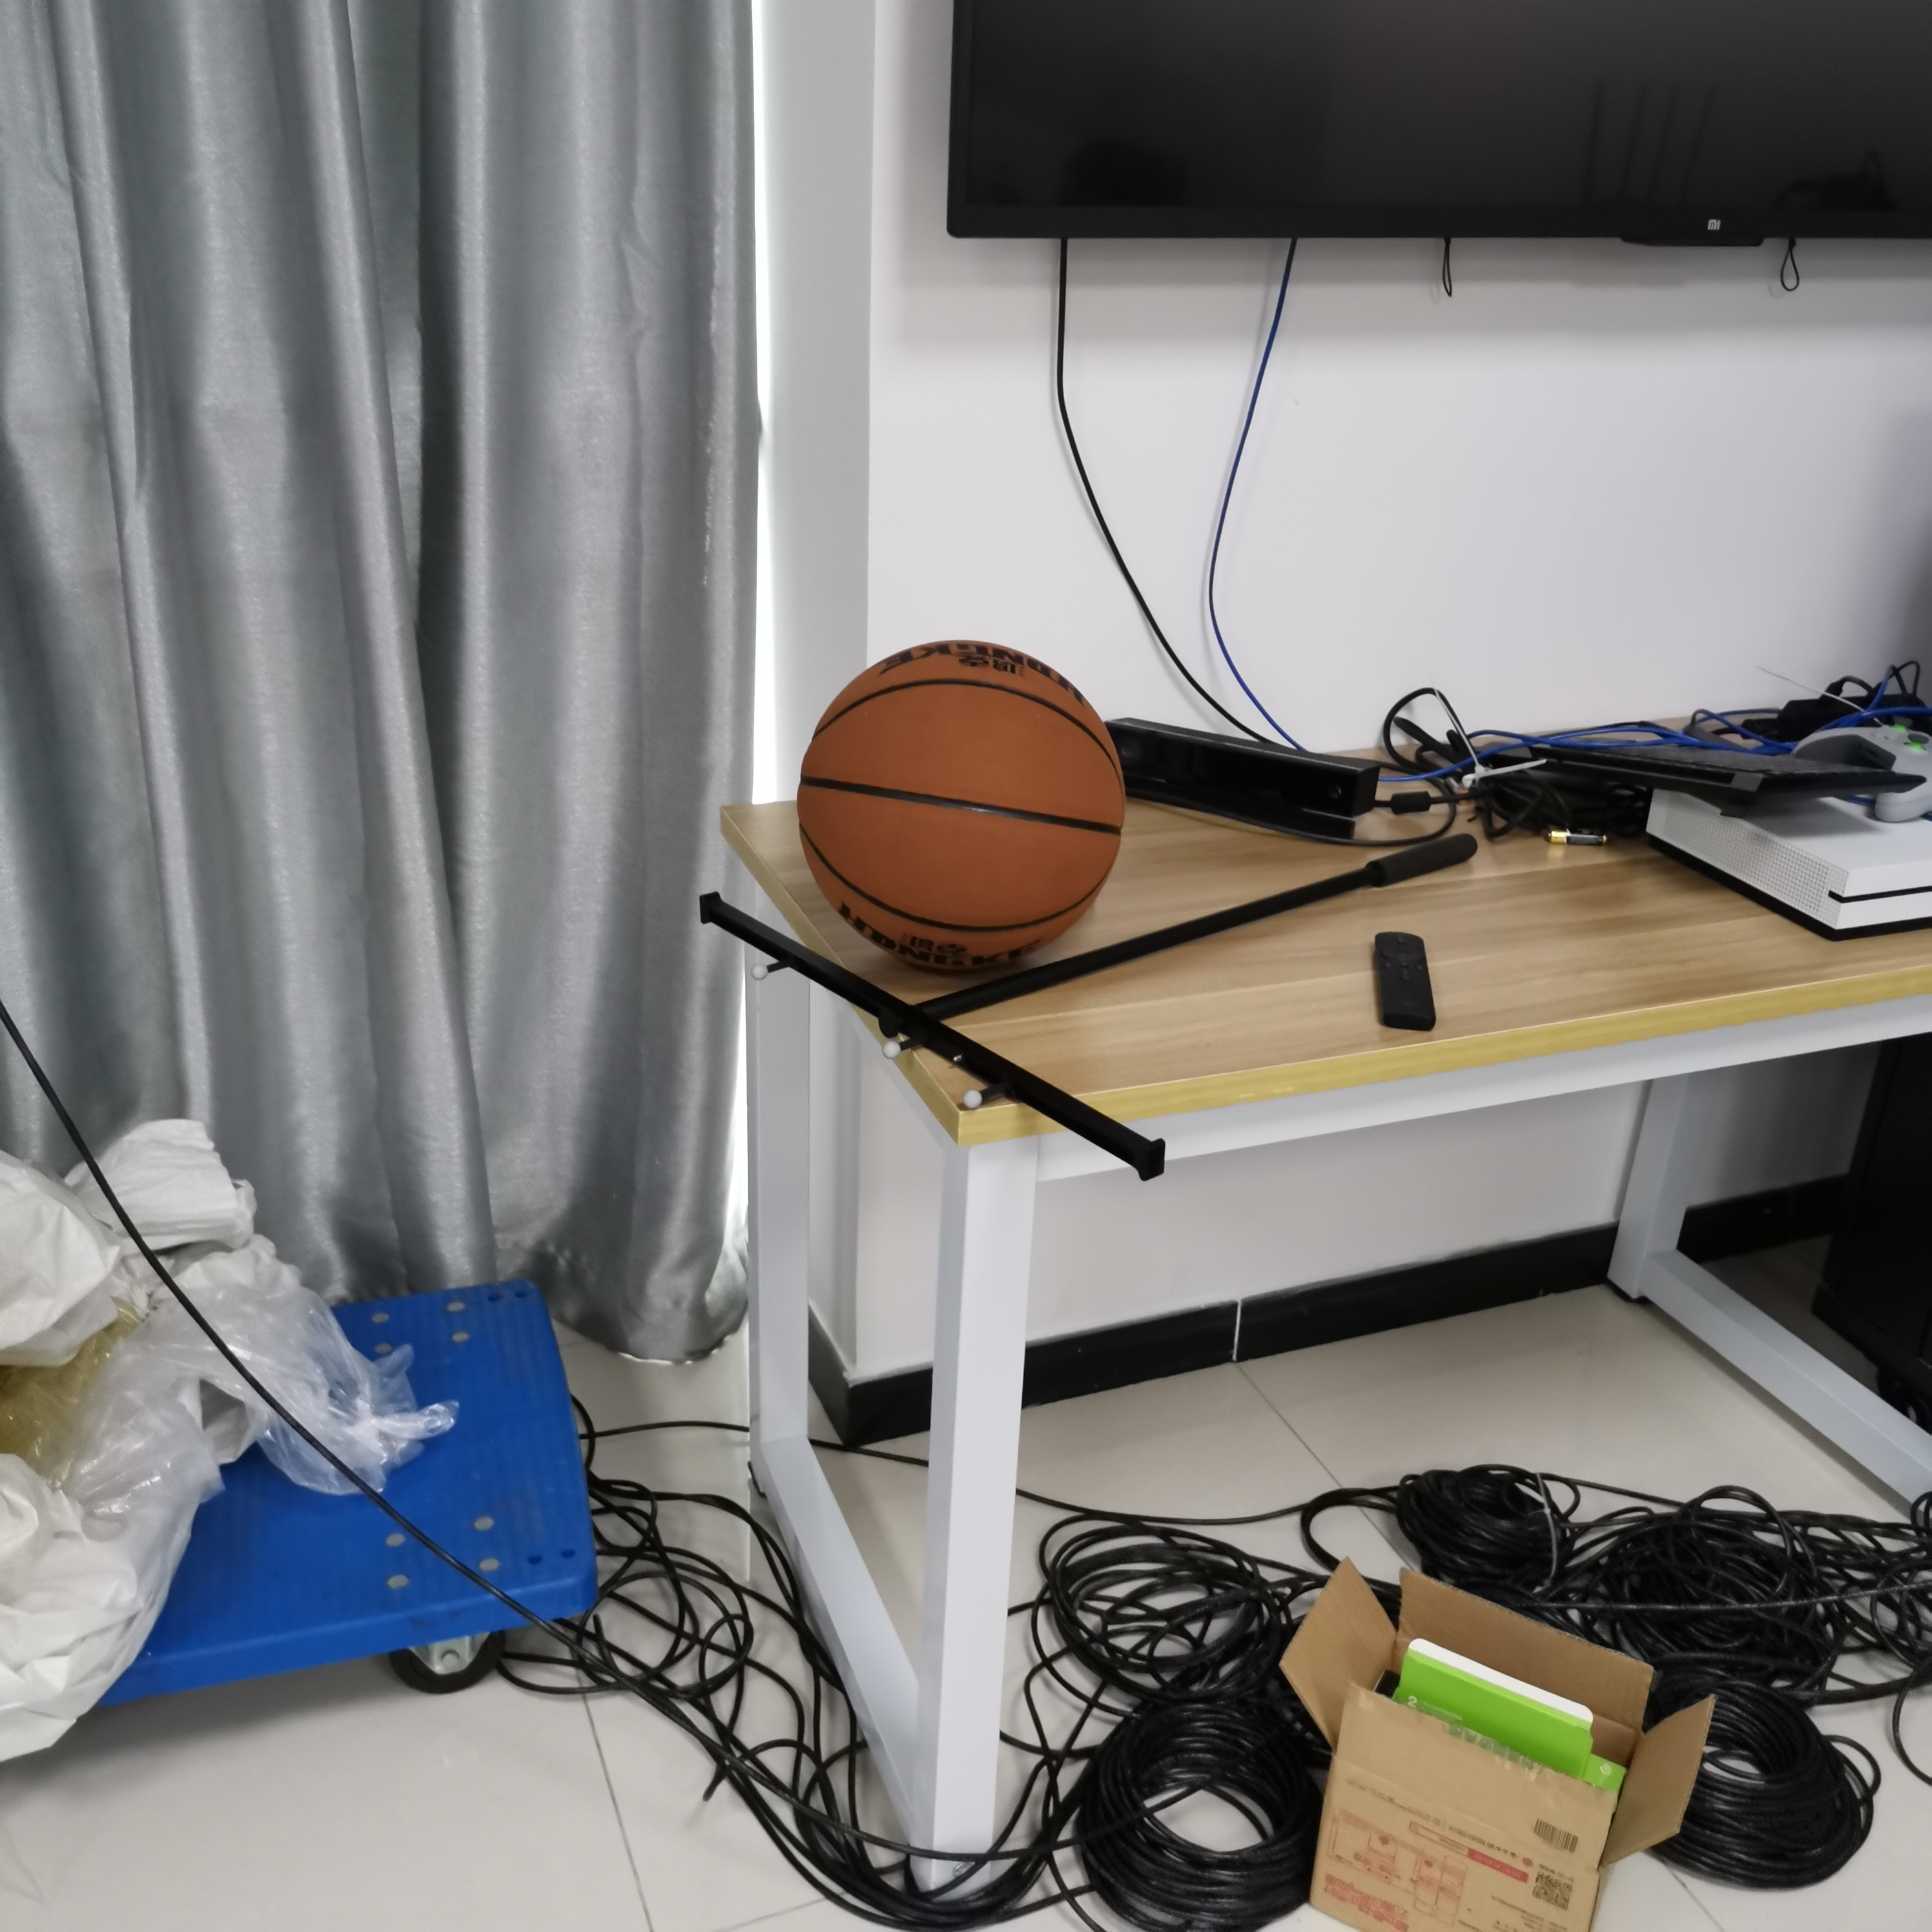basketball: (800, 642, 1127, 971)
